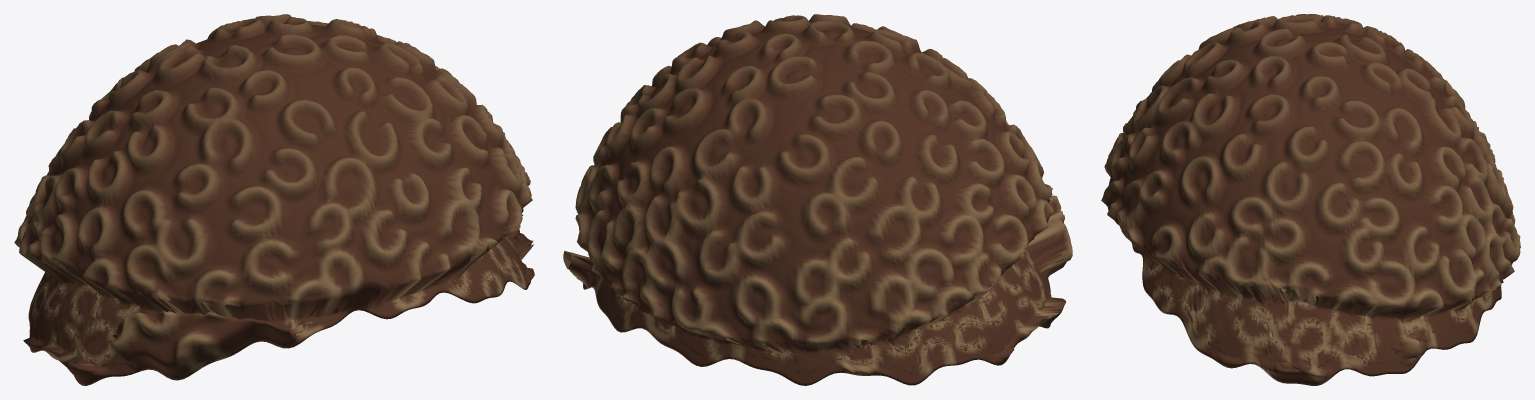
Rendered from Highlights-43f27b0bf25b251-hair.glb.
3 views of the same model, side by side, from view 1: azimuth 30°, elevation 25°; view 2: azimuth 150°, elevation 25°; view 3: azimuth 270°, elevation 25° (orthographic). The views are drawn at different scales.
Visible parts, largest first — view 1: 226 hair / Hair / sculpted afro251.001; view 2: 226 hair / Hair / sculpted afro251.001; view 3: 226 hair / Hair / sculpted afro251.001.
Boxes of the visible parts, bbox=[...] form: 226 hair / Hair / sculpted afro251.001: bbox=[14, 14, 534, 385]; 226 hair / Hair / sculpted afro251.001: bbox=[563, 14, 1072, 385]; 226 hair / Hair / sculpted afro251.001: bbox=[1101, 14, 1520, 385].
Size of the model in its own units: 0.9972 by 0.5528 by 0.8277.
